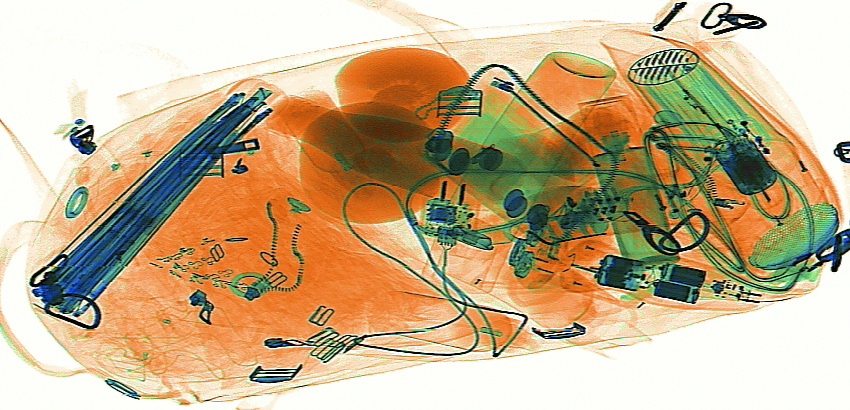pressure: (418, 48, 617, 299)
